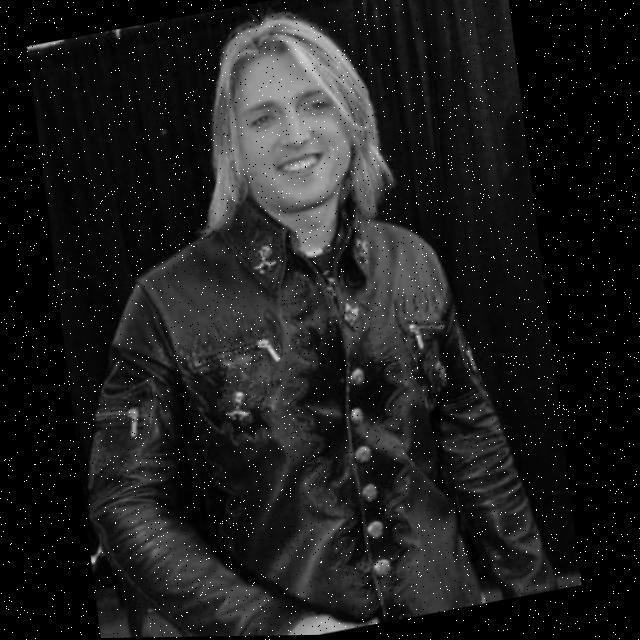face: (220, 21, 364, 239)
